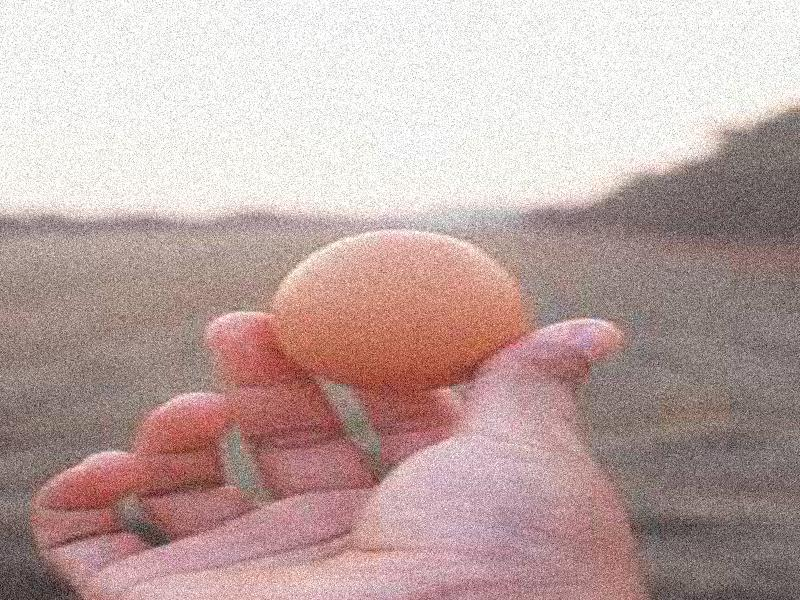Eggs: (270, 229, 524, 388)
